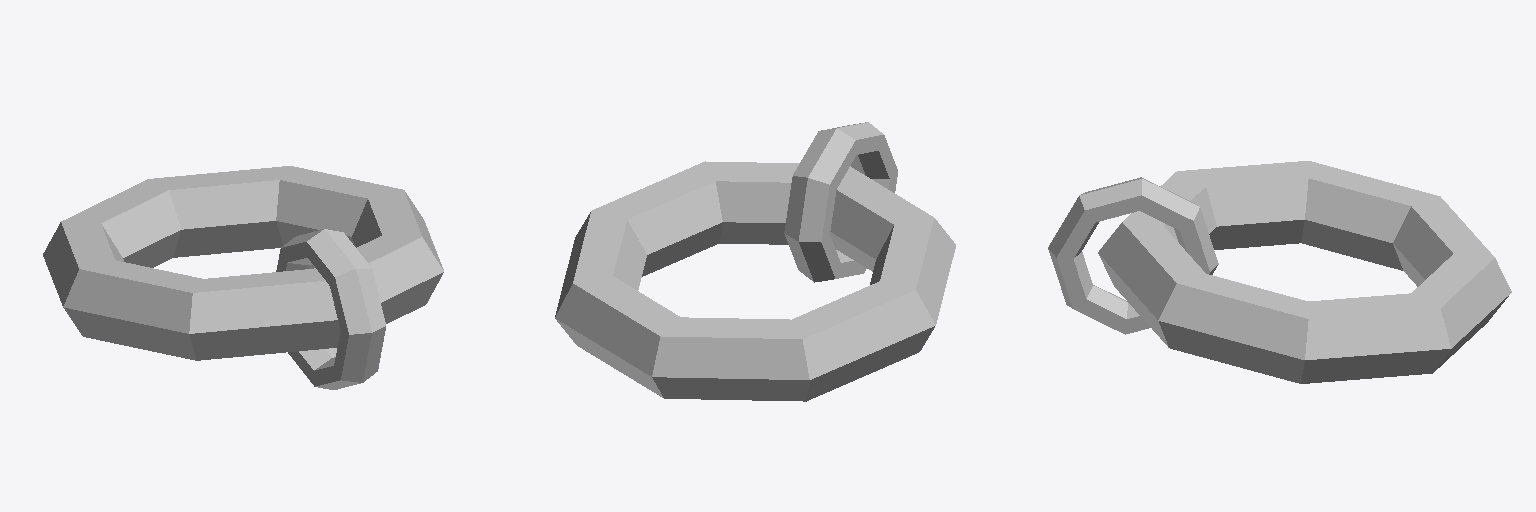
The model's file is o ring.obj.
3 views of the same model, side by side, from view 1: azimuth 30°, elevation 25°; view 2: azimuth 150°, elevation 25°; view 3: azimuth 270°, elevation 25° (orthographic).
Size of the model in its own units: 0.4253 by 0.1745 by 0.4738.